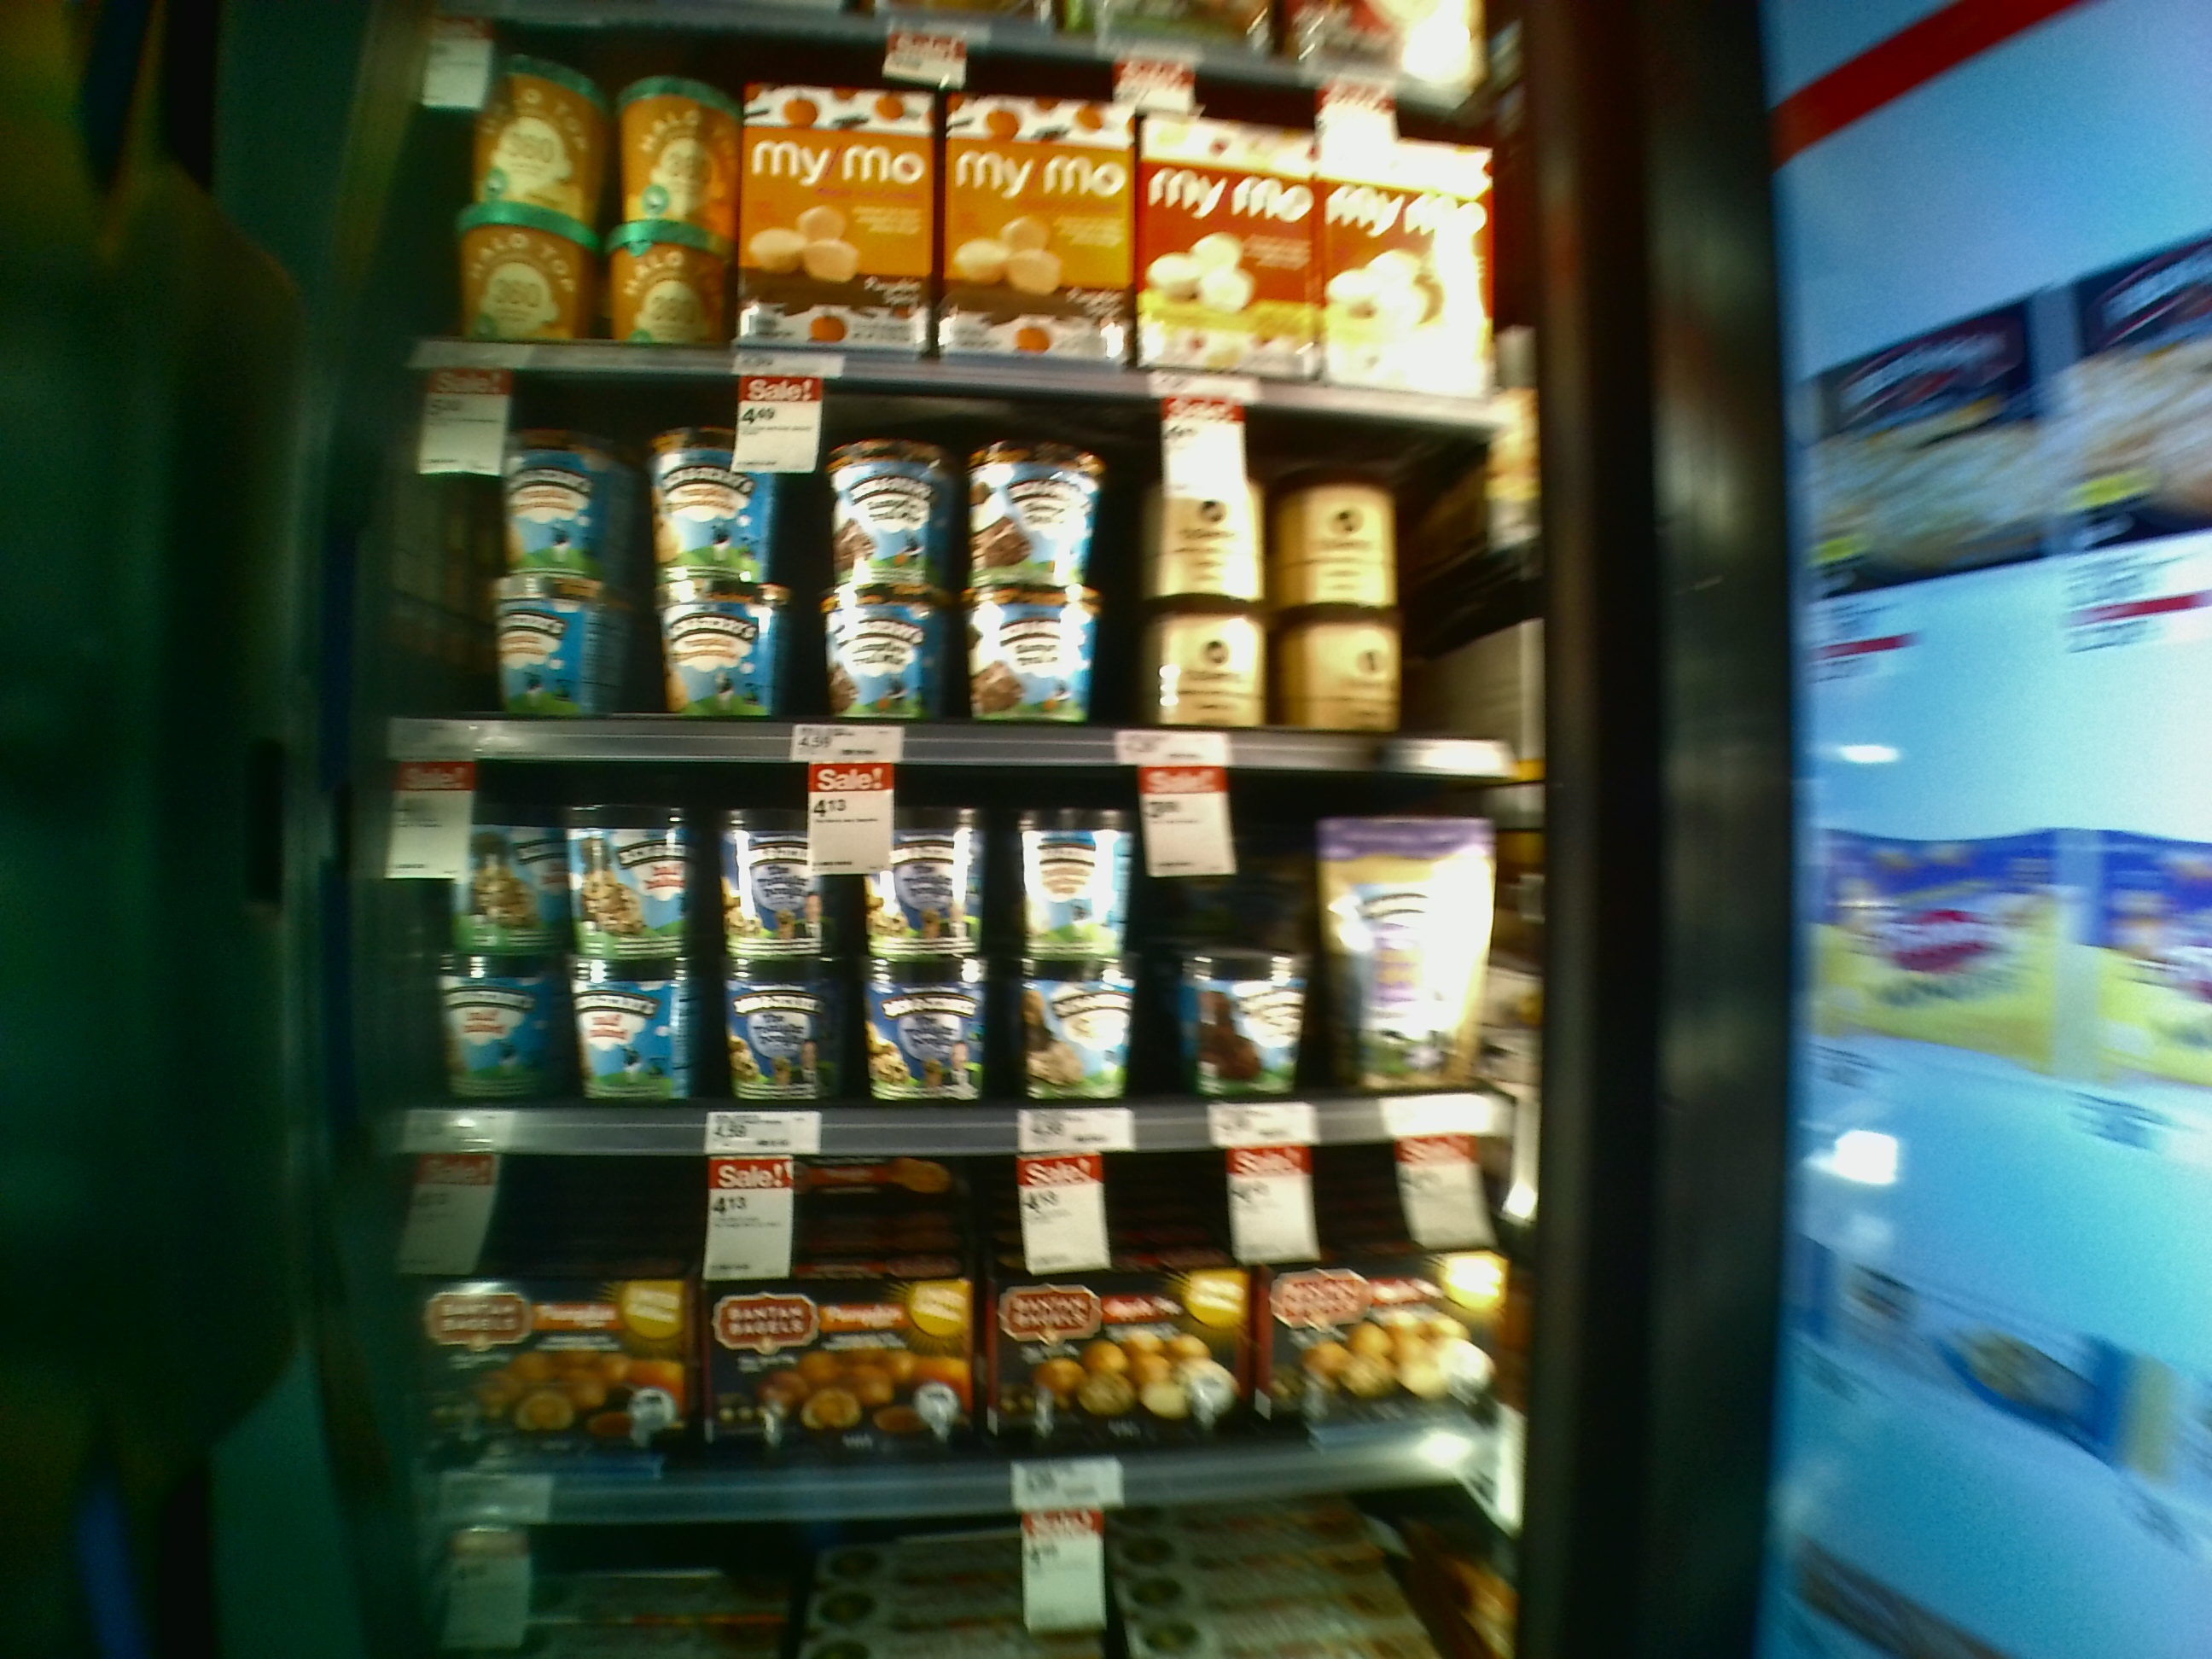shelf: (345, 338, 1545, 775), (307, 1115, 1554, 1516), (317, 735, 1541, 1140)
